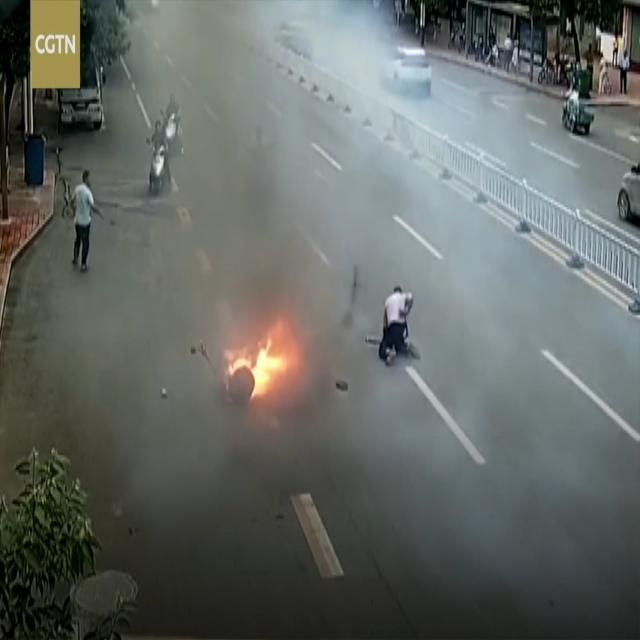fire: (216, 315, 308, 409)
